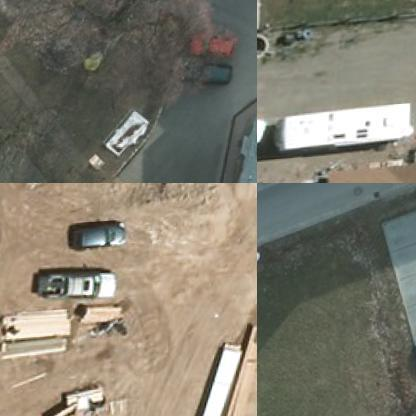camping car: (282, 107, 415, 153)
car: (180, 60, 237, 92), (75, 220, 126, 251), (186, 30, 236, 60)
pickup: (35, 272, 120, 304)
